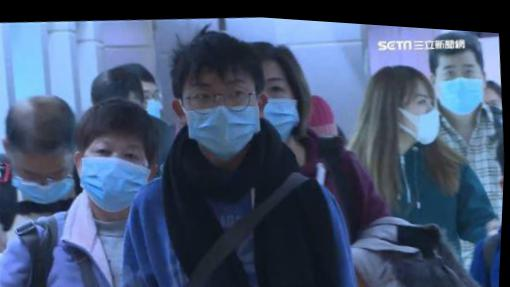OK: (181, 70, 264, 156), (81, 131, 154, 210), (237, 66, 304, 146), (13, 152, 78, 207), (433, 51, 487, 111), (139, 83, 166, 124)
WRONG: (401, 80, 445, 142)
